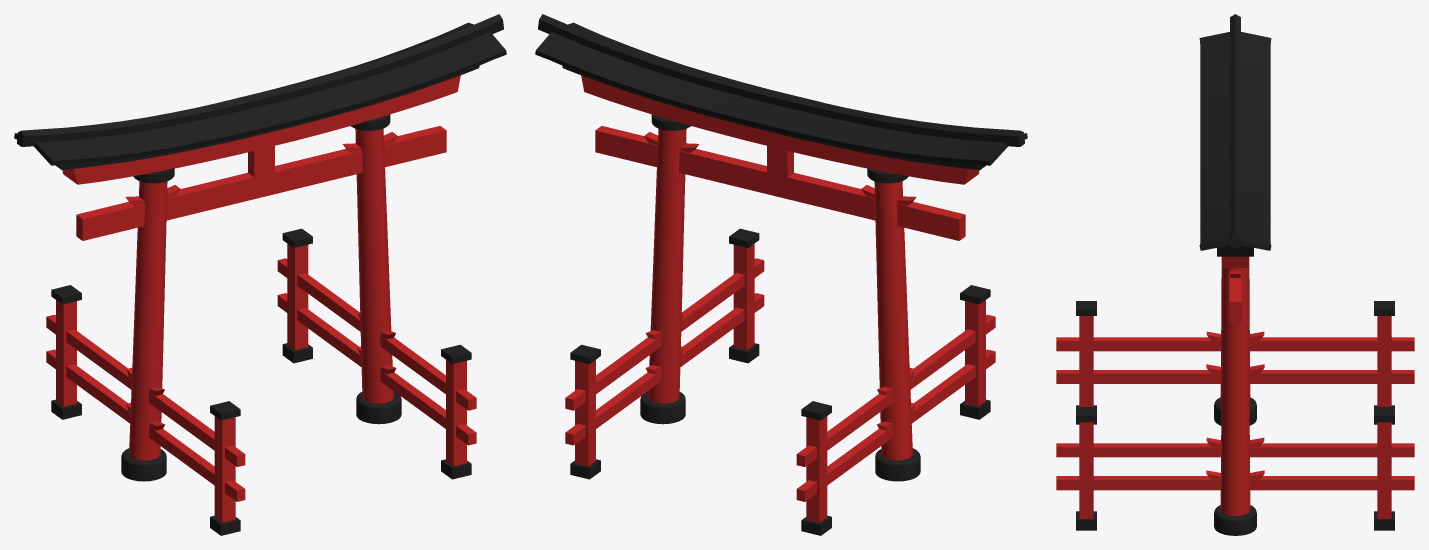
Rendered from NNJ0610008.fbx.
The picture shows the model from 3 angles, left to right: view 1: azimuth 30°, elevation 25°; view 2: azimuth 150°, elevation 25°; view 3: azimuth 270°, elevation 25°; orthographic projection. The views are drawn at different scales.
Visible parts, largest first — view 1: smNNJ0610008; view 2: smNNJ0610008; view 3: smNNJ0610008.
Part boxes in pixels (x1,y1,x2,y2): smNNJ0610008: [14, 14, 506, 535]; smNNJ0610008: [535, 14, 1027, 535]; smNNJ0610008: [1056, 14, 1414, 535].
Bounding box in the file's own units: 586 × 431 × 401.
Materials: 1 (1 with a texture image).
